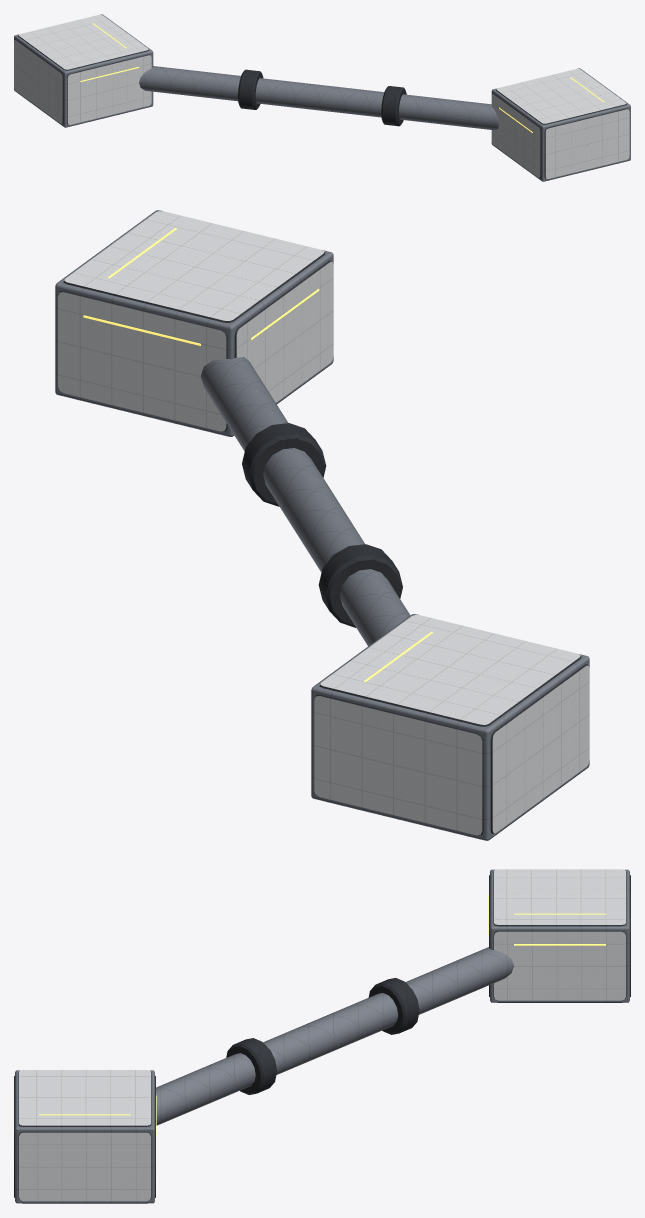
The model's file is R4C_ROD_DIAG_2D_LONG.glb.
3 renders of one model, top to bottom at view 1: azimuth 30°, elevation 25°; view 2: azimuth 150°, elevation 25°; view 3: azimuth 270°, elevation 25°, orthographic. The views are drawn at different scales.
Visible parts, largest first — view 1: R4C_ROD_DIAG_2D_LONG; view 2: R4C_ROD_DIAG_2D_LONG; view 3: R4C_ROD_DIAG_2D_LONG.
Part boxes in pixels (bbox=[...]): R4C_ROD_DIAG_2D_LONG: bbox=[14, 14, 630, 181]; R4C_ROD_DIAG_2D_LONG: bbox=[55, 210, 589, 840]; R4C_ROD_DIAG_2D_LONG: bbox=[14, 869, 630, 1203].
Size of the model in its own units: 1.62 by 0.2284 by 1.62.
Materials: 4 (3 with a texture image).
